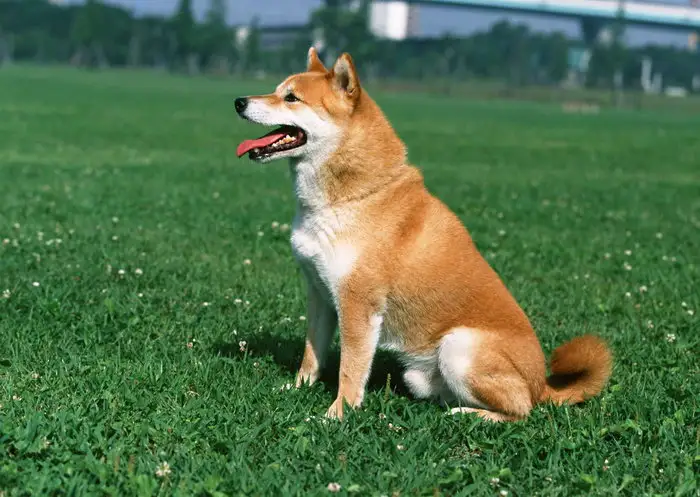dog: (230, 44, 612, 427)
